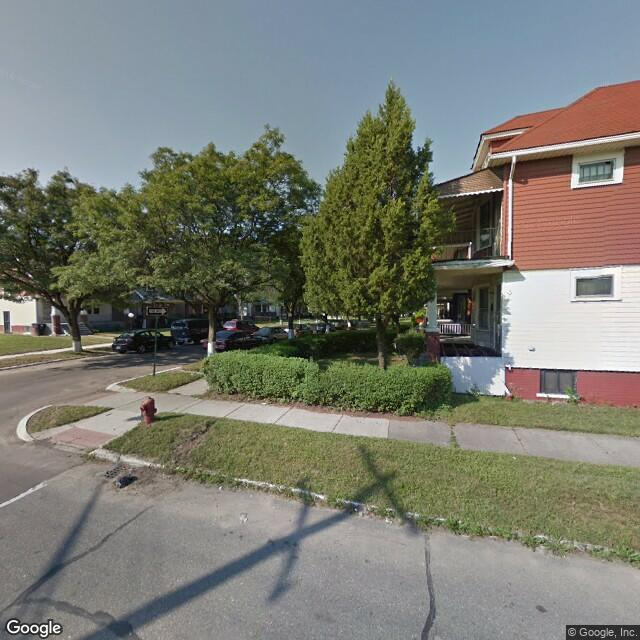litter: (116, 473, 141, 487), (218, 485, 224, 492)
